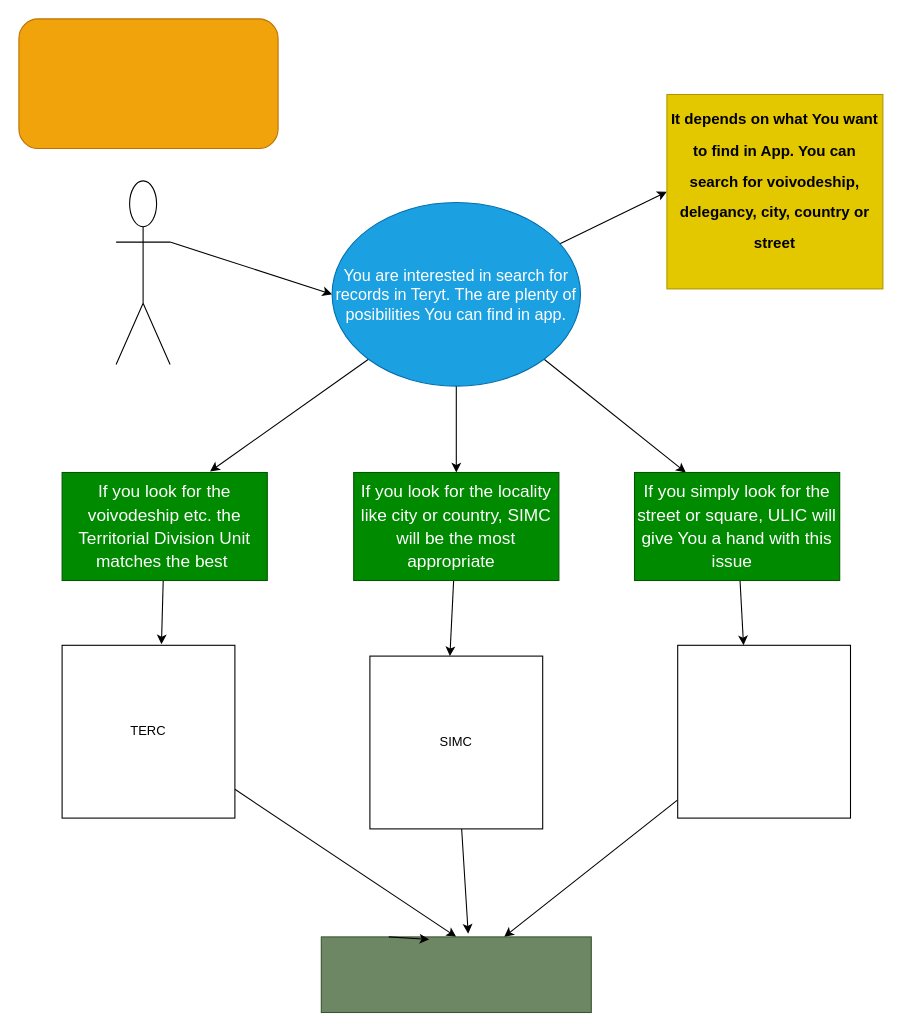
The diagram is 902 pixels wide and 1031 high, and some of its shapes have lost their labels. Each missing label, with the box of its shape:
Actor: (115, 180, 170, 364)
Patern of how the section searching in Teryt works: (18, 18, 278, 148)
Returning the possible predications with given parameters: (320, 936, 591, 1013)
ULIC: (677, 644, 850, 818)
